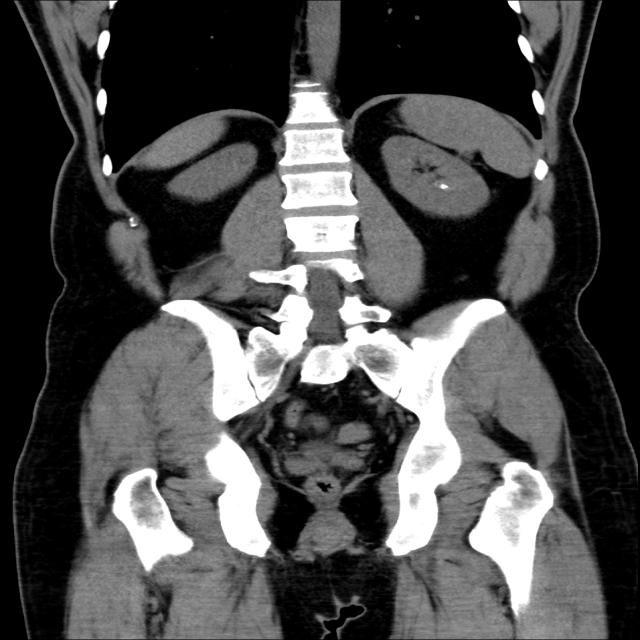kidneystone: (438, 184, 449, 189)
